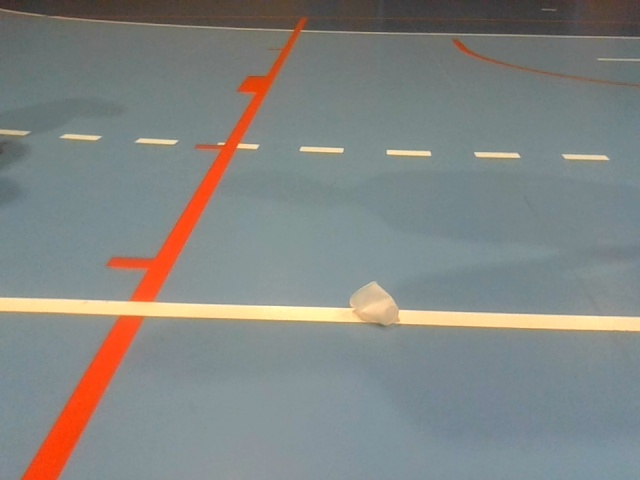plasticcup: (349, 278, 399, 326)
